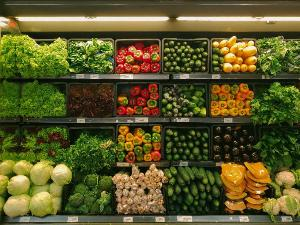bell_pepper: (206, 80, 254, 116), (114, 80, 160, 116), (116, 42, 162, 74), (117, 128, 163, 160), (117, 93, 129, 106), (125, 151, 136, 163), (151, 150, 162, 162), (130, 85, 142, 96), (142, 143, 153, 154), (133, 128, 145, 138), (124, 141, 134, 152), (147, 99, 158, 109), (134, 50, 144, 61), (142, 52, 152, 62), (142, 133, 152, 143), (211, 84, 221, 94), (221, 84, 231, 94), (239, 83, 249, 93), (152, 133, 162, 143), (116, 152, 126, 162), (118, 46, 128, 56), (141, 62, 151, 72), (231, 84, 240, 95), (236, 99, 245, 110), (118, 126, 129, 135), (117, 105, 126, 116), (141, 88, 150, 98), (219, 100, 228, 110), (218, 92, 228, 101), (227, 99, 236, 109), (236, 92, 246, 101), (246, 90, 255, 100), (133, 136, 142, 146), (129, 96, 138, 106), (137, 97, 147, 106), (148, 84, 158, 93), (125, 55, 135, 64), (116, 55, 126, 64), (151, 63, 160, 73), (132, 64, 141, 74), (152, 125, 161, 134), (125, 133, 134, 142), (134, 146, 143, 155), (152, 142, 161, 151), (134, 106, 143, 115), (142, 107, 151, 116), (150, 44, 159, 53), (211, 108, 221, 116), (117, 142, 125, 152), (126, 106, 134, 116), (128, 45, 136, 55), (124, 63, 132, 73), (221, 108, 230, 116), (230, 108, 239, 116), (144, 153, 152, 162), (150, 92, 159, 100), (151, 107, 159, 116), (135, 42, 144, 50), (211, 93, 219, 101), (211, 101, 219, 109), (245, 108, 253, 116), (244, 99, 251, 108), (117, 135, 126, 142), (227, 93, 235, 100), (136, 154, 144, 161), (239, 109, 246, 116), (143, 46, 150, 53)
cucumber: (164, 162, 222, 214), (162, 78, 210, 116), (161, 40, 211, 72), (167, 126, 210, 160), (178, 166, 190, 182), (199, 167, 209, 185), (213, 171, 223, 187), (192, 167, 205, 179), (206, 171, 216, 186), (185, 166, 195, 180), (176, 173, 186, 187), (189, 182, 198, 196), (185, 192, 194, 204), (212, 185, 220, 198), (198, 106, 207, 117), (174, 183, 182, 195), (169, 166, 178, 176), (197, 182, 206, 192), (191, 106, 201, 115), (172, 101, 182, 110), (164, 168, 172, 179), (192, 146, 200, 157), (195, 86, 206, 94), (167, 185, 174, 197), (181, 200, 189, 210), (191, 96, 200, 104), (170, 85, 179, 93), (187, 102, 197, 109), (169, 177, 176, 186), (184, 147, 191, 156), (182, 186, 189, 194), (213, 199, 220, 207), (199, 199, 206, 207), (165, 129, 173, 136), (166, 141, 174, 148), (165, 154, 173, 161), (198, 98, 205, 106), (166, 103, 173, 111), (195, 59, 202, 67), (206, 183, 212, 192), (194, 91, 203, 97), (180, 86, 189, 92), (200, 192, 207, 199), (196, 205, 203, 212), (202, 132, 209, 139), (202, 148, 209, 155), (179, 134, 186, 141), (165, 147, 172, 154), (182, 99, 189, 106), (163, 92, 170, 99), (165, 61, 172, 68), (176, 48, 183, 55), (207, 194, 213, 202), (204, 205, 210, 213), (184, 94, 192, 100), (169, 90, 177, 96), (176, 87, 182, 95), (189, 130, 196, 136), (193, 200, 199, 207), (196, 131, 202, 138), (188, 141, 194, 148), (182, 141, 188, 148), (173, 154, 180, 160), (178, 147, 184, 154), (181, 154, 188, 160), (189, 154, 195, 161), (162, 98, 168, 105), (178, 97, 184, 104), (173, 107, 179, 114), (189, 60, 195, 67), (181, 57, 188, 63), (169, 40, 175, 47), (173, 129, 178, 137), (201, 41, 207, 47), (200, 136, 206, 142), (195, 140, 201, 146), (202, 142, 208, 148), (186, 134, 192, 140), (173, 136, 179, 142), (165, 136, 171, 142), (176, 141, 182, 147), (189, 85, 195, 91), (182, 107, 188, 113), (167, 111, 173, 117), (201, 66, 207, 72), (194, 66, 200, 72), (202, 51, 208, 57), (195, 48, 201, 54), (189, 48, 195, 54), (184, 62, 190, 68), (175, 66, 181, 72), (164, 48, 170, 54), (175, 56, 181, 62), (172, 147, 177, 154), (163, 87, 170, 92), (184, 91, 192, 95), (195, 194, 200, 200), (162, 107, 167, 113), (168, 96, 173, 102), (192, 54, 197, 60), (186, 67, 192, 72), (181, 66, 186, 72), (169, 66, 174, 72), (170, 48, 176, 53), (180, 45, 186, 50), (181, 52, 186, 58), (172, 52, 177, 58), (173, 96, 178, 101), (197, 54, 202, 59), (202, 57, 207, 62), (200, 47, 205, 52), (172, 61, 177, 66), (169, 56, 174, 61), (167, 53, 172, 58), (164, 42, 169, 47), (174, 45, 179, 50), (183, 41, 188, 46), (186, 53, 192, 57), (202, 61, 207, 65), (164, 56, 168, 61), (177, 42, 181, 46), (188, 57, 191, 61)
eggplant: (212, 37, 258, 73), (216, 124, 258, 160), (242, 46, 258, 59), (244, 56, 258, 66), (224, 53, 237, 63), (227, 36, 237, 48), (223, 63, 233, 73), (220, 46, 230, 55), (230, 44, 239, 54), (219, 39, 229, 48), (232, 56, 243, 64), (240, 63, 249, 72), (236, 47, 244, 57), (248, 64, 257, 72), (224, 134, 232, 142), (233, 64, 241, 72), (236, 42, 244, 48), (248, 40, 255, 46), (213, 41, 219, 47)
